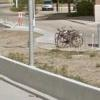Bicycle: (54, 26, 83, 49)
